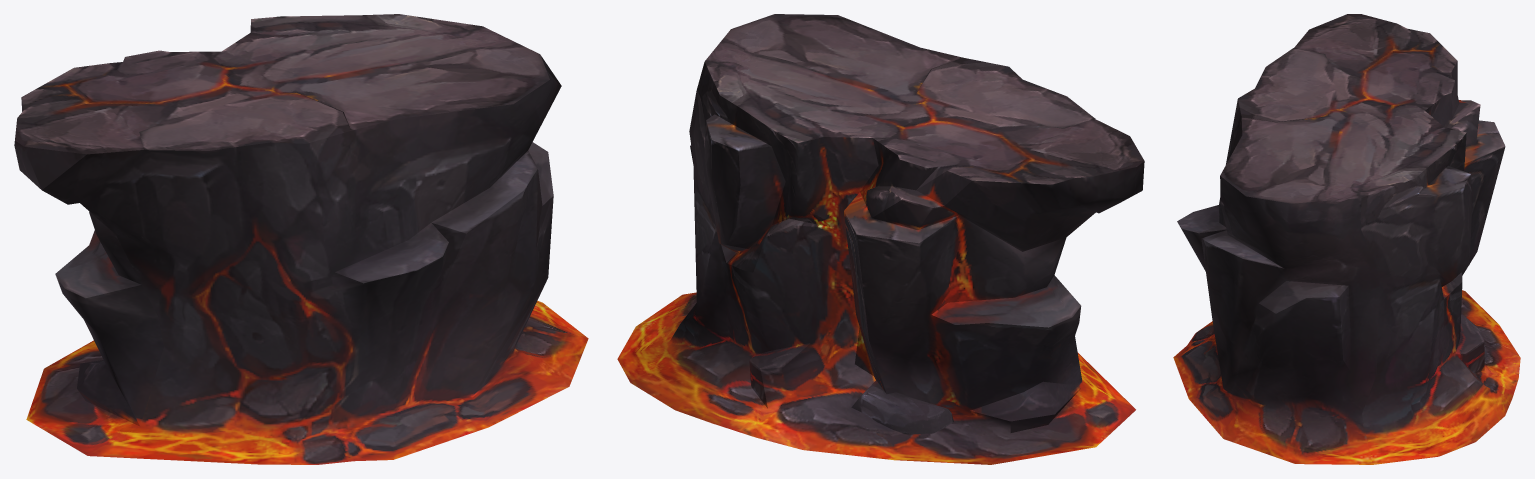
File: rongysy_st005.FBX
The picture shows the model from 3 angles, left to right: view 1: azimuth 30°, elevation 25°; view 2: azimuth 150°, elevation 25°; view 3: azimuth 270°, elevation 25°; orthographic projection. The views are drawn at different scales.
Visible parts, largest first — view 1: tongnby_rongysy_st005; view 2: tongnby_rongysy_st005; view 3: tongnby_rongysy_st005.
Boxes of the visible parts, x1,y1,x2,y2 form: tongnby_rongysy_st005: [14, 14, 588, 464]; tongnby_rongysy_st005: [617, 14, 1144, 464]; tongnby_rongysy_st005: [1173, 14, 1520, 464].
Bounding box in the file's own units: 1262 × 672 × 880.
1 material, 1 textured.
